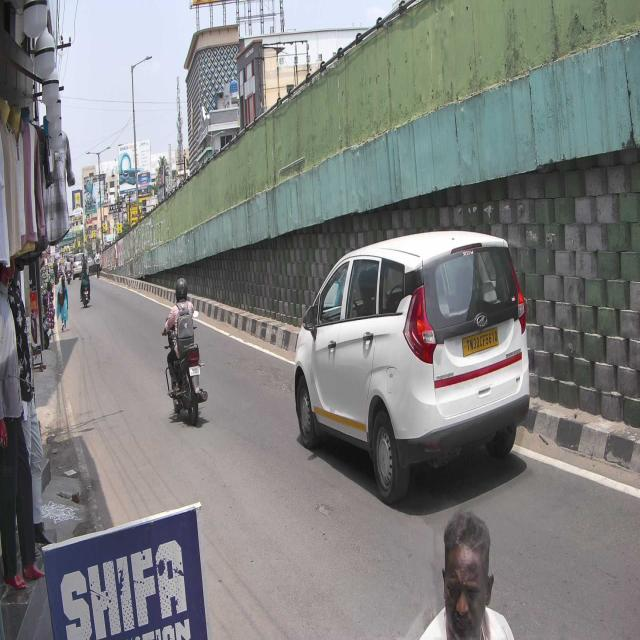single_rider: (161, 277, 208, 425)
